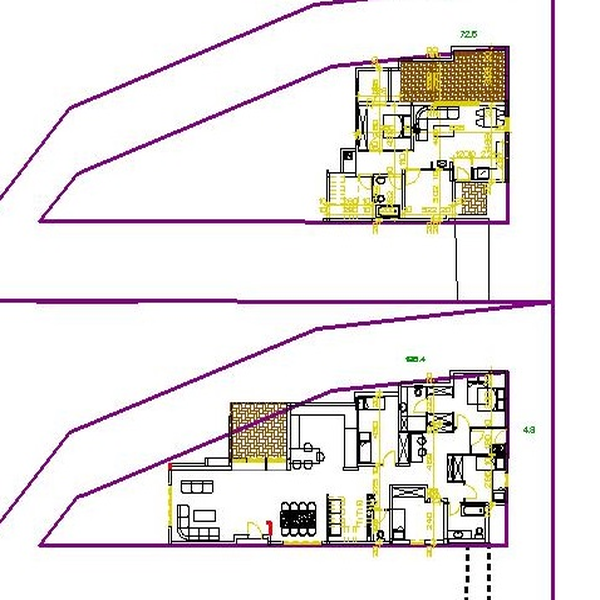room: (165, 461, 385, 544), (287, 401, 359, 474)
